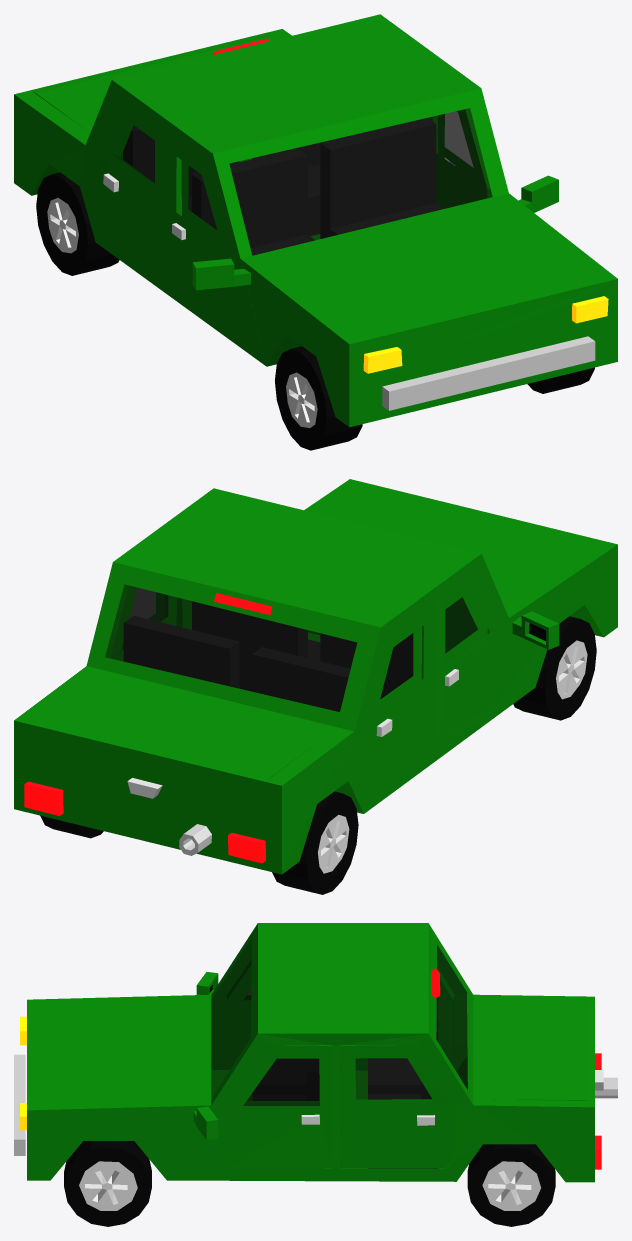
The model's file is car.glb.
3 views of the same model, one above another, from view 1: azimuth 30°, elevation 25°; view 2: azimuth 150°, elevation 25°; view 3: azimuth 270°, elevation 25° (orthographic). The views are drawn at different scales.
Visible parts, largest first — view 1: Cube001, Cube001_2, FrontHatch, Cube001_1, Cube010, Cube002, FrontBumber, Cube005, Cylinder002_1, Cylinder003_1, Cube003, Cube001_3 (+8 smaller); view 2: Cube001, Cube005, Cube001_2, Cube001_1, FrontHatch, Cube010, Cube002, Cylinder003_1, Cylinder002_1, Cube001_4, Cube012, Cylinder002 (+7 smaller); view 3: Cube001, FrontHatch, Cube005, Cube012, Cube003, Cube001_2, Cube001_1, Cylinder001_1, Cylinder004_1, Cube003_1, Cube012_1, Cylinder001 (+7 smaller).
Boxes of the visible parts, x1,y1,x2,y2 form: Cube001: (14,14,617,427); Cube001_2: (229,108,492,255); FrontHatch: (267,206,592,334); Cube001_1: (123,118,443,255); Cube010: (96,99,163,276); Cube002: (169,136,231,326); FrontBumber: (382,336,595,410); Cube005: (31,32,276,132); Cylinder002_1: (275,346,362,450); Cylinder003_1: (36,172,119,275); Cube003: (428,108,492,208); Cube001_3: (363,296,608,373); Cube001: (14,479,617,874); Cube005: (28,677,326,828); Cube001_2: (105,584,466,711); Cube001_1: (123,601,413,711); FrontHatch: (322,489,593,605); Cube010: (365,604,432,793); Cube002: (438,573,499,744); Cylinder003_1: (272,791,358,894); Cylinder002_1: (513,616,596,720); Cube001_4: (24,593,272,863); Cube012: (105,584,176,661); Cylinder002: (556,640,587,699); Cube001: (27,923,594,1182); FrontHatch: (40,1002,195,1103); Cube005: (489,1002,594,1100); Cube012: (340,1045,454,1168); Cube003: (227,1045,331,1168); Cube001_2: (211,938,467,1097); Cube001_1: (252,997,438,1168); Cylinder001_1: (64,1141,151,1226); Cylinder004_1: (467,1144,555,1226); Cube003_1: (243,1058,319,1105); Cube012_1: (355,1058,431,1099); Cylinder001: (79,1161,137,1210).
Size of the model in its own units: 6.76 by 4.06 by 11.53.
